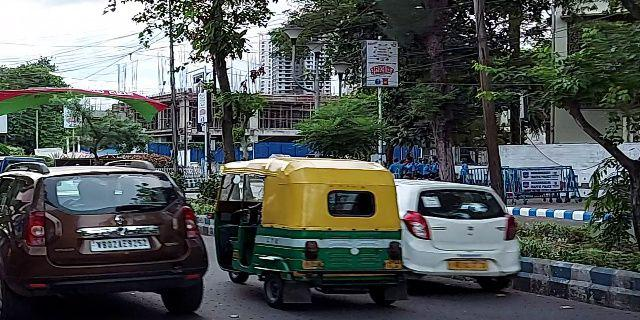Autorickshaw: (221, 159, 409, 307)
Car: (6, 160, 210, 315), (389, 170, 521, 296)
